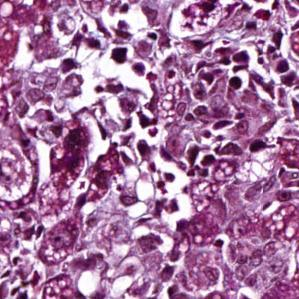ballooning: (46, 108, 109, 186)
